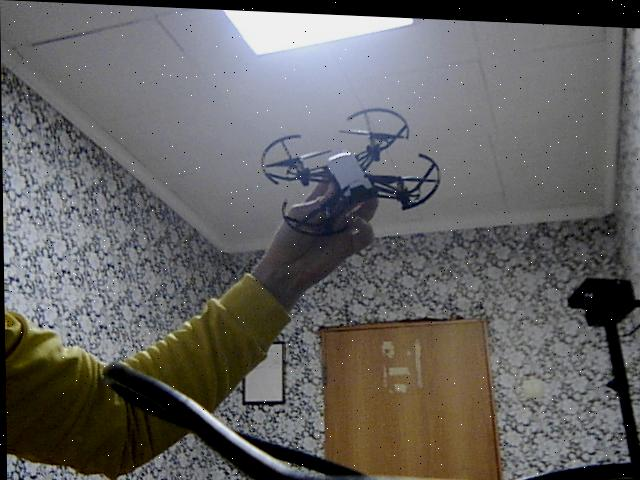drone: (248, 89, 448, 249)
